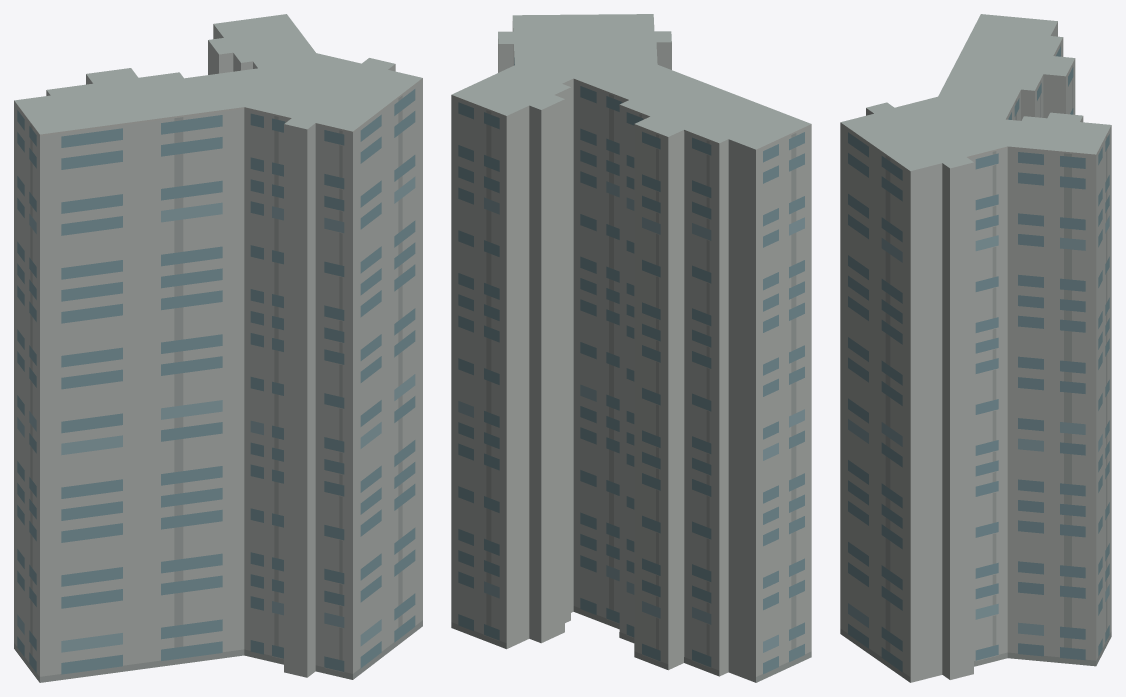
File: residential-ee1cb82f-1a5d-42e8-b41d-e7013210e859.glb
The picture shows the model from 3 angles, left to right: view 1: azimuth 30°, elevation 25°; view 2: azimuth 150°, elevation 25°; view 3: azimuth 270°, elevation 25°; orthographic projection. The views are drawn at different scales.
Parts seen in each view (by area): view 1: residential-ee1cb82f-1a5d-42e8-b41d-e7013210e859.tmp; view 2: residential-ee1cb82f-1a5d-42e8-b41d-e7013210e859.tmp; view 3: residential-ee1cb82f-1a5d-42e8-b41d-e7013210e859.tmp.
Boxes of the visible parts, left/top/right/bottom form: residential-ee1cb82f-1a5d-42e8-b41d-e7013210e859.tmp: left=14, top=14, right=422, bottom=682; residential-ee1cb82f-1a5d-42e8-b41d-e7013210e859.tmp: left=451, top=14, right=811, bottom=682; residential-ee1cb82f-1a5d-42e8-b41d-e7013210e859.tmp: left=840, top=14, right=1111, bottom=682.
Size of the model in its own units: 50.09 by 76 by 36.51.
